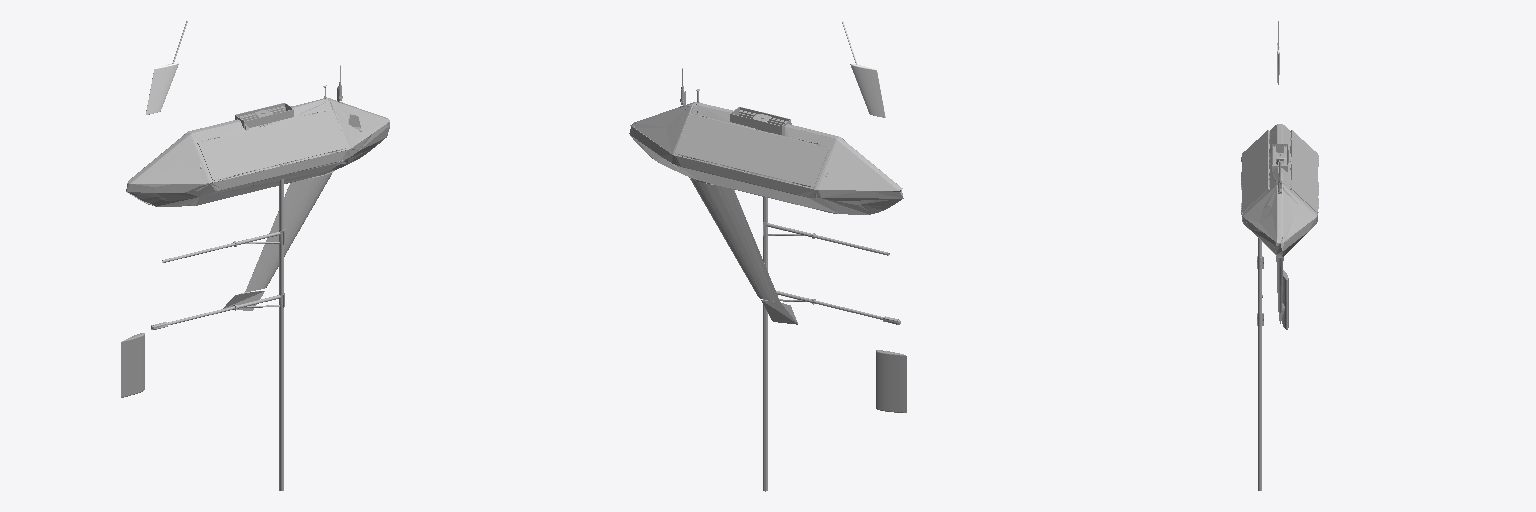
robot.urdf — polaris:
<?xml version="1.0" encoding="utf-8"?>
<!-- This URDF was automatically created by SolidWorks to URDF Exporter! Originally created by Stephen Brawner (brawner@gmail.com) 
     Commit Version: 1.6.0-4-g7f85cfe  Build Version: 1.6.7995.38578
     For more information, please see http://wiki.ros.org/sw_urdf_exporter -->
<robot
  name="polaris">
  <link
    name="base_hull">
    <inertial>
      <origin
        xyz="0.079791 0.00053586 0.50523"
        rpy="0 0 0" />
      <mass
        value="244.28" />
      <inertia
        ixx="11.115"
        ixy="-0.096705"
        ixz="-0.50862"
        iyy="73.155"
        iyz="-0.0015324"
        izz="72.152" />
    </inertial>
    <visual>
      <origin
        xyz="0 0 0"
        rpy="0 0 0" />
      <geometry>
        <mesh
          filename="package://polaris/meshes/base_hull.STL" />
      </geometry>
      <material
        name="">
        <color
          rgba="0.75294 0.75294 0.75294 1" />
      </material>
    </visual>
    <collision>
      <origin
        xyz="0 0 0"
        rpy="0 0 0" />
      <geometry>
        <mesh
          filename="package://polaris/meshes/base_hull.STL" />
      </geometry>
    </collision>
  </link>
  <link
    name="link_rudder">
    <inertial>
      <origin
        xyz="0.051296 0.0099805 -0.074335"
        rpy="0 0 0" />
      <mass
        value="0.28508" />
      <inertia
        ixx="0.0093841"
        ixy="2.11E-05"
        ixz="0.0034418"
        iyy="0.011395"
        iyz="4.5738E-06"
        izz="0.0020393" />
    </inertial>
    <visual>
      <origin
        xyz="0 0 0"
        rpy="0 0 0" />
      <geometry>
        <mesh
          filename="package://polaris/meshes/link_rudder.STL" />
      </geometry>
      <material
        name="">
        <color
          rgba="1 1 1 1" />
      </material>
    </visual>
    <collision>
      <origin
        xyz="0 0 0"
        rpy="0 0 0" />
      <geometry>
        <mesh
          filename="package://polaris/meshes/link_rudder.STL" />
      </geometry>
    </collision>
  </link>
  <joint
    name="joint_rudder"
    type="revolute">
    <origin
      xyz="-1.282 -0.0090126 1.08"
      rpy="0 0 0" />
    <parent
      link="base_hull" />
    <child
      link="link_rudder" />
    <axis
      xyz="0.35837 0 -0.93358" />
    <limit
      lower="-0.523599"
      upper="0.523599"
      effort="100000"
      velocity="10000" />
  </joint>
  <link
    name="link_wingsail">
    <inertial>
      <origin
        xyz="0.48309 0.11001 0.01352"
        rpy="0 0 0" />
      <mass
        value="22.122" />
      <inertia
        ixx="5.9349"
        ixy="-2.1133E-06"
        ixz="0.020465"
        iyy="6.3216"
        iyz="-4.5614E-05"
        izz="0.41093" />
    </inertial>
    <visual>
      <origin
        xyz="0 0 0"
        rpy="0 0 0" />
      <geometry>
        <mesh
          filename="package://polaris/meshes/link_wingsail.STL" />
      </geometry>
      <material
        name="">
        <color
          rgba="0.75294 0.75294 0.75294 1" />
      </material>
    </visual>
    <collision>
      <origin
        xyz="0 0 0"
        rpy="0 0 0" />
      <geometry>
        <mesh
          filename="package://polaris/meshes/link_wingsail.STL" />
      </geometry>
    </collision>
  </link>
  <joint
    name="joint_wingsail"
    type="continuous">
    <origin
      xyz="-0.18951 -0.11 -1.522"
      rpy="0 0 0" />
    <parent
      link="base_hull" />
    <child
      link="link_wingsail" />
    <axis
      xyz="0 0 -1" />
  </joint>
  <link
    name="link_trim_tab">
    <inertial>
      <origin
        xyz="0.012277 -0.021796 -5.8647E-06"
        rpy="0 0 0" />
      <mass
        value="0.39689" />
      <inertia
        ixx="0.013826"
        ixy="0.00039851"
        ixz="1.4415E-07"
        iyy="0.015866"
        iyz="-2.3939E-08"
        izz="0.0023654" />
    </inertial>
    <visual>
      <origin
        xyz="0 0 0"
        rpy="0 0 0" />
      <geometry>
        <mesh
          filename="package://polaris/meshes/link_trim_tab.STL" />
      </geometry>
      <material
        name="">
        <color
          rgba="0.69804 0.69804 0.69804 1" />
      </material>
    </visual>
    <collision>
      <origin
        xyz="0 0 0"
        rpy="0 0 0" />
      <geometry>
        <mesh
          filename="package://polaris/meshes/link_trim_tab.STL" />
      </geometry>
    </collision>
  </link>
  <joint
    name="joint_trim_tab"
    type="revolute">
    <origin
      xyz="-1.3637 0.14258 -0.42606"
      rpy="0 0 0" />
    <parent
      link="link_wingsail" />
    <child
      link="link_trim_tab" />
    <axis
      xyz="0 0 -1" />
    <limit
      lower="-0.5236"
      upper="0.5236"
      effort="100000"
      velocity="1000" />
  </joint>
</robot>

--- Render facts (derived) ---
The picture shows the robot from 3 angles, left to right: view 1: azimuth 30°, elevation 25°; view 2: azimuth 150°, elevation 25°; view 3: azimuth 270°, elevation 25°; orthographic projection.
Robot: polaris — 4 links, 3 joints (2 revolute, 1 continuous); root link base_hull; default pose: every joint at zero.
Visible links, largest first — view 1: base_hull, link_wingsail, link_trim_tab, link_rudder; view 2: base_hull, link_wingsail, link_trim_tab, link_rudder; view 3: base_hull, link_wingsail.
Link boxes in pixels (x1,y1,x2,y2): base_hull: (126,65,389,310); link_wingsail: (151,179,284,490); link_trim_tab: (121,333,144,397); link_rudder: (146,21,187,114); base_hull: (629,68,903,324); link_wingsail: (763,197,900,491); link_trim_tab: (876,350,906,412); link_rudder: (842,21,885,117); base_hull: (1241,124,1318,323); link_wingsail: (1257,238,1263,490).
Size in the robot's own frame: 3.1 by 0.8763 by 5.33 metres.
Meshes: 4 distinct files referenced, 4 mesh visuals loaded (4 binary STL).
